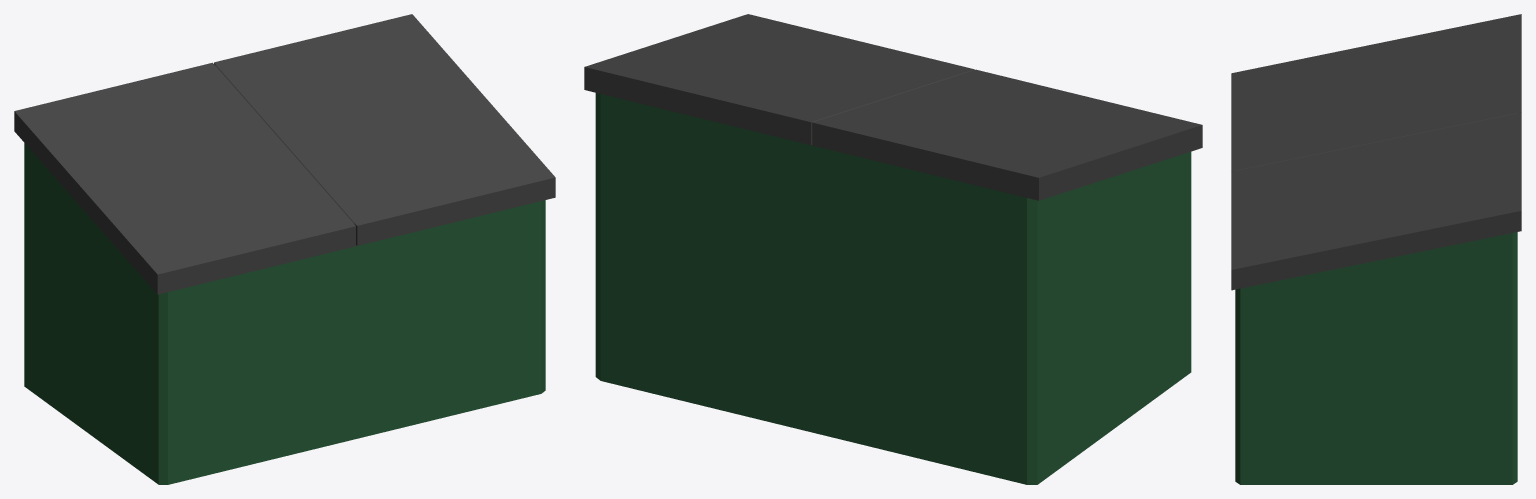
Rendered from Trash_02.fbx.
3 views of the same model, side by side, from view 1: azimuth 30°, elevation 25°; view 2: azimuth 150°, elevation 25°; view 3: azimuth 270°, elevation 25° (orthographic). The views are drawn at different scales.
Parts seen in each view (by area): view 1: Trash_02; view 2: Trash_02; view 3: Trash_02.
Boxes of the visible parts, bbox=[...] form: Trash_02: bbox=[14, 14, 555, 484]; Trash_02: bbox=[584, 14, 1202, 484]; Trash_02: bbox=[1231, 14, 1521, 484].
Bounding box in the file's own units: 164 × 108 × 102.
